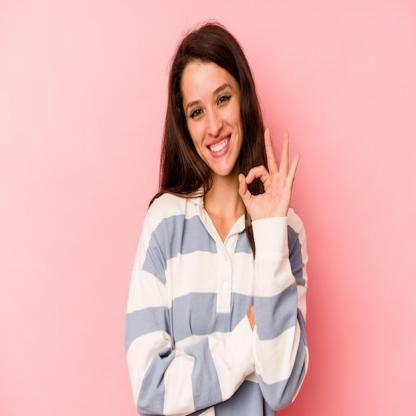ok: (238, 127, 301, 221)
